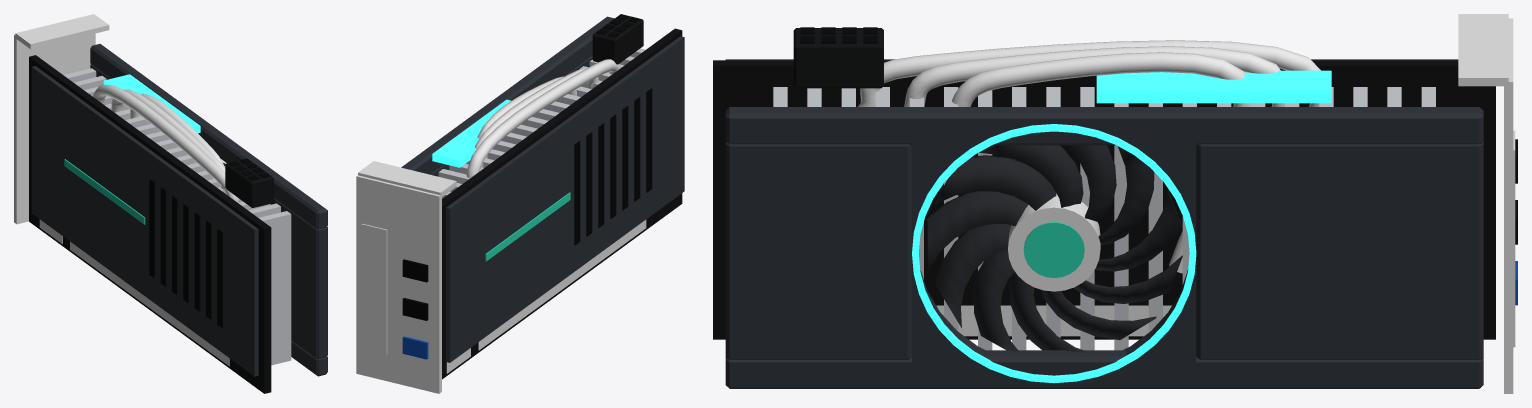
Rendered from hw_gpu_gtx1660ti.glb.
3 renders of one model, left to right at view 1: azimuth 30°, elevation 25°; view 2: azimuth 150°, elevation 25°; view 3: azimuth 270°, elevation 25°, orthographic. The views are drawn at different scales.
Parts seen in each view (by area): view 1: Body; view 2: Body; view 3: Body, Rotor_X_0.
Boxes of the visible parts, x1,y1,x2,y2 form: Body: (14,14,327,393); Body: (356,14,684,393); Body: (713,14,1517,393); Rotor_X_0: (927,145,1182,352).
Size of the model in its own units: 0.0366 by 0.0847 by 0.1918.
